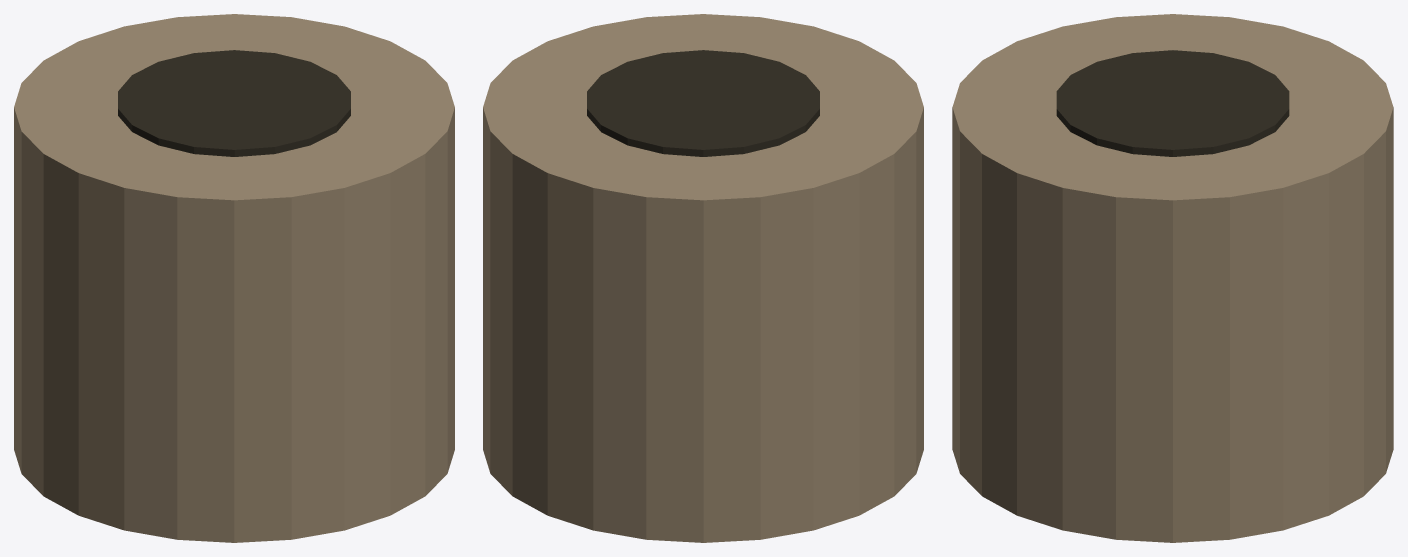
File: fps_bandage_roll_prop.obj
3 views of the same model, side by side, from view 1: azimuth 30°, elevation 25°; view 2: azimuth 150°, elevation 25°; view 3: azimuth 270°, elevation 25° (orthographic).
Parts seen in each view (by area): view 1: fps_bandage_roll_prop; view 2: fps_bandage_roll_prop; view 3: fps_bandage_roll_prop.
Boxes of the visible parts, x1=… form: fps_bandage_roll_prop: x1=14, y1=14, x2=454, y2=542; fps_bandage_roll_prop: x1=483, y1=14, x2=923, y2=542; fps_bandage_roll_prop: x1=952, y1=14, x2=1393, y2=542.
Size of the model in its own units: 0.28 by 0.25 by 0.28.
